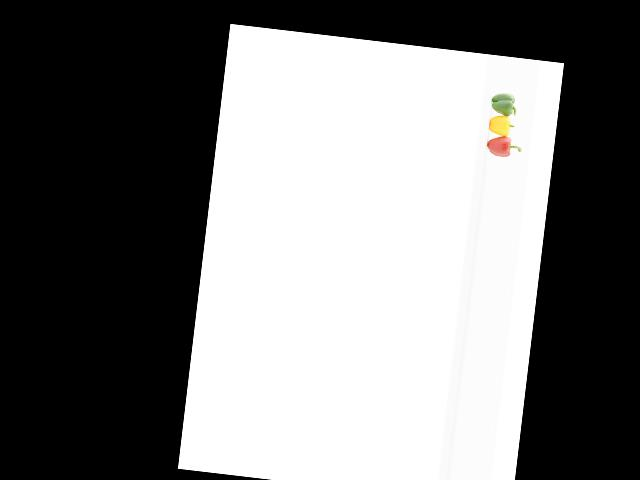bell_pepper: (481, 131, 525, 165)
